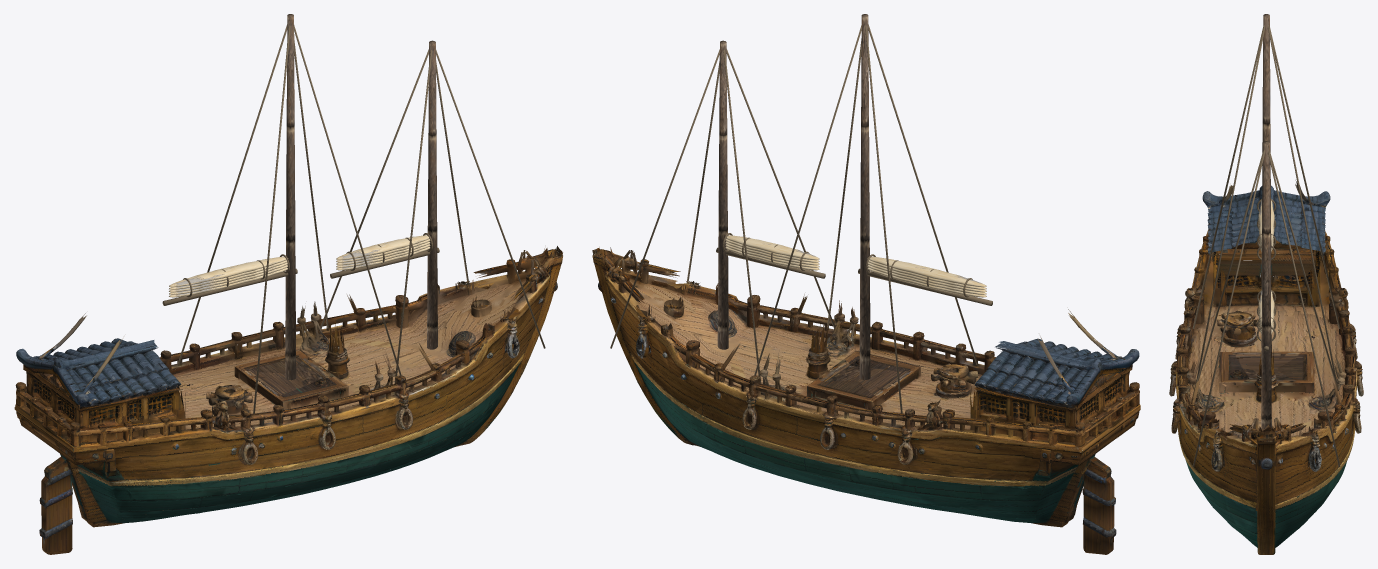
The model's file is merchant-ship-boarding-v2.glb.
3 renders of one model, left to right at view 1: azimuth 30°, elevation 25°; view 2: azimuth 150°, elevation 25°; view 3: azimuth 270°, elevation 25°, orthographic. The views are drawn at different scales.
Parts seen in each view (by area): view 1: GEO-BoardingShip, GEO-PaintedMast, GEO-PaintedMast.001, GEO-StandingRigging.002, GEO-FoldedCanvas.004, GEO-StandingRigging.003, GEO-StandingRigging.006, GEO-StandingRigging.004, GEO-StandingRigging.007, GEO-FoldedCanvas.009, GEO-StandingRigging.005, GEO-StandingRigging.008; view 2: GEO-BoardingShip, GEO-PaintedMast, GEO-PaintedMast.001, GEO-StandingRigging.004, GEO-FoldedCanvas.004, GEO-StandingRigging.005, GEO-StandingRigging.002, GEO-StandingRigging.008, GEO-StandingRigging.009, GEO-FoldedCanvas.009, GEO-StandingRigging.003, GEO-StandingRigging.006; view 3: GEO-BoardingShip, GEO-PaintedMast.001, GEO-PaintedMast, GEO-StandingRigging.005, GEO-StandingRigging.003, GEO-StandingRigging.007, GEO-StandingRigging.009, GEO-StandingRigging.002, GEO-StandingRigging.004, GEO-StandingRigging.008, GEO-StandingRigging.006.
Part boxes in pixels (<box>): GEO-BoardingShip: <box>14,246,562,554</box>; GEO-PaintedMast: <box>285,14,296,380</box>; GEO-PaintedMast.001: <box>427,40,437,349</box>; GEO-StandingRigging.002: <box>253,25,290,413</box>; GEO-FoldedCanvas.004: <box>169,256,288,287</box>; GEO-StandingRigging.003: <box>293,25,401,375</box>; GEO-StandingRigging.006: <box>394,42,432,383</box>; GEO-StandingRigging.004: <box>177,24,287,364</box>; GEO-StandingRigging.007: <box>433,42,545,348</box>; GEO-FoldedCanvas.009: <box>336,235,429,260</box>; GEO-StandingRigging.005: <box>294,40,328,328</box>; GEO-StandingRigging.008: <box>320,49,428,328</box>; GEO-BoardingShip: <box>592,247,1140,554</box>; GEO-PaintedMast: <box>859,14,870,379</box>; GEO-PaintedMast.001: <box>717,40,728,349</box>; GEO-StandingRigging.004: <box>865,25,902,413</box>; GEO-FoldedCanvas.004: <box>867,256,986,287</box>; GEO-StandingRigging.005: <box>754,25,861,375</box>; GEO-StandingRigging.002: <box>868,24,977,364</box>; GEO-StandingRigging.008: <box>723,42,761,383</box>; GEO-StandingRigging.009: <box>610,42,722,348</box>; GEO-FoldedCanvas.009: <box>726,235,819,260</box>; GEO-StandingRigging.003: <box>827,38,861,328</box>; GEO-StandingRigging.006: <box>723,42,835,328</box>; GEO-BoardingShip: <box>1169,180,1363,554</box>; GEO-PaintedMast.001: <box>1261,141,1271,429</box>; GEO-PaintedMast: <box>1261,14,1271,358</box>; GEO-StandingRigging.005: <box>1268,25,1338,389</box>; GEO-StandingRigging.003: <box>1195,25,1264,384</box>; GEO-StandingRigging.007: <box>1192,142,1266,466</box>; GEO-StandingRigging.009: <box>1266,142,1340,466</box>; GEO-StandingRigging.002: <box>1192,27,1263,328</box>; GEO-StandingRigging.004: <box>1270,28,1340,328</box>; GEO-StandingRigging.008: <box>1270,152,1340,395</box>; GEO-StandingRigging.006: <box>1192,142,1266,395</box>.
Size of the model in its own units: 15.94 by 14.15 by 5.32.
4 materials, 3 textured.
